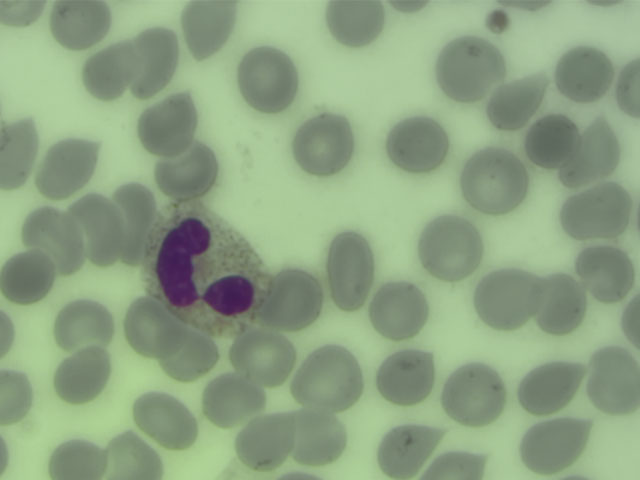Platelets: (481, 10, 513, 34)
RBC: (106, 177, 158, 272), (323, 224, 373, 313), (519, 414, 595, 470), (24, 204, 83, 276), (66, 195, 116, 273), (127, 22, 177, 99), (323, 1, 389, 57), (588, 347, 640, 416), (370, 282, 428, 340), (475, 270, 533, 328), (529, 273, 587, 331), (576, 242, 634, 300), (567, 183, 625, 241), (563, 125, 621, 183), (523, 113, 581, 171), (555, 45, 613, 103), (491, 69, 549, 127), (466, 153, 524, 211), (389, 114, 447, 172), (440, 38, 498, 96), (294, 113, 352, 171), (301, 346, 359, 404), (288, 411, 346, 469), (232, 413, 290, 471), (201, 372, 259, 430), (262, 269, 320, 327), (233, 328, 291, 386), (137, 390, 195, 448), (162, 325, 220, 383), (123, 296, 181, 354), (55, 348, 113, 406), (53, 297, 111, 355), (240, 50, 298, 108), (40, 137, 98, 195), (155, 145, 213, 203), (138, 94, 196, 152), (83, 41, 141, 99), (444, 369, 502, 427), (377, 419, 435, 477), (376, 349, 434, 407), (520, 357, 578, 415), (423, 217, 481, 275), (175, 1, 233, 58), (44, 431, 111, 480), (1, 248, 57, 306), (416, 445, 498, 480), (1, 360, 40, 431), (100, 437, 164, 480), (1, 112, 35, 189), (49, 1, 109, 43), (613, 56, 640, 121)
WBC: (148, 203, 263, 333)
